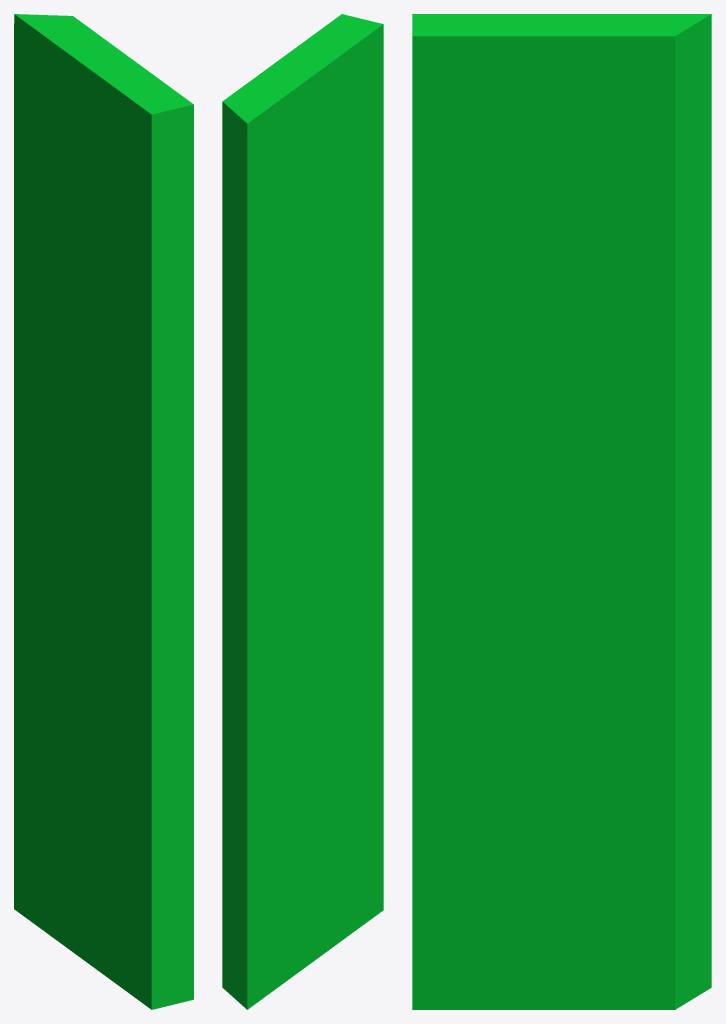
Rendered from simple_example_hole_part_32.obj.
3 renders of one model, left to right at view 1: azimuth 30°, elevation 25°; view 2: azimuth 150°, elevation 25°; view 3: azimuth 270°, elevation 25°, orthographic. The views are drawn at different scales.
Bounding box in the file's own units: 3.58 × 72.79 × 20.28.
